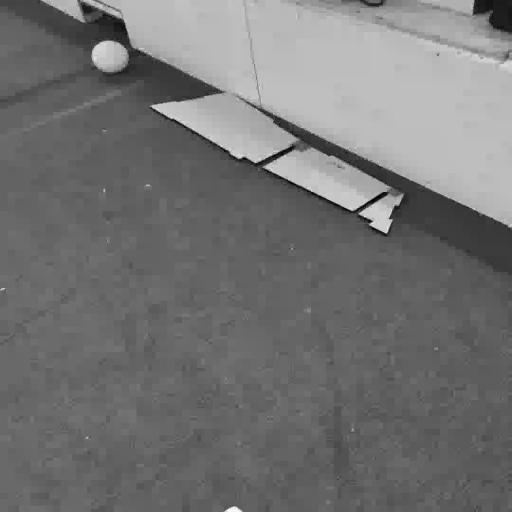fuel: (92, 41, 128, 73)
